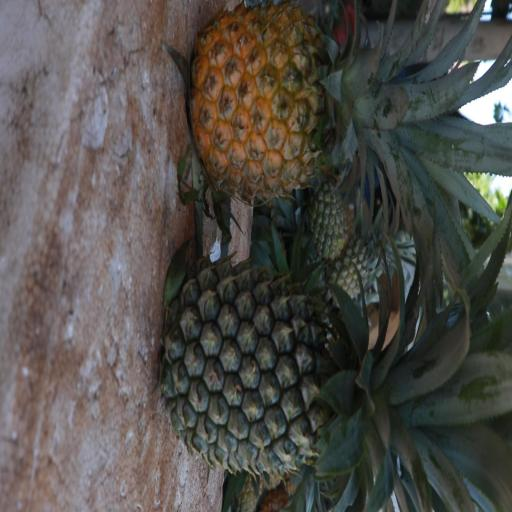Pineapple - v8 v1: (193, 4, 486, 192)
